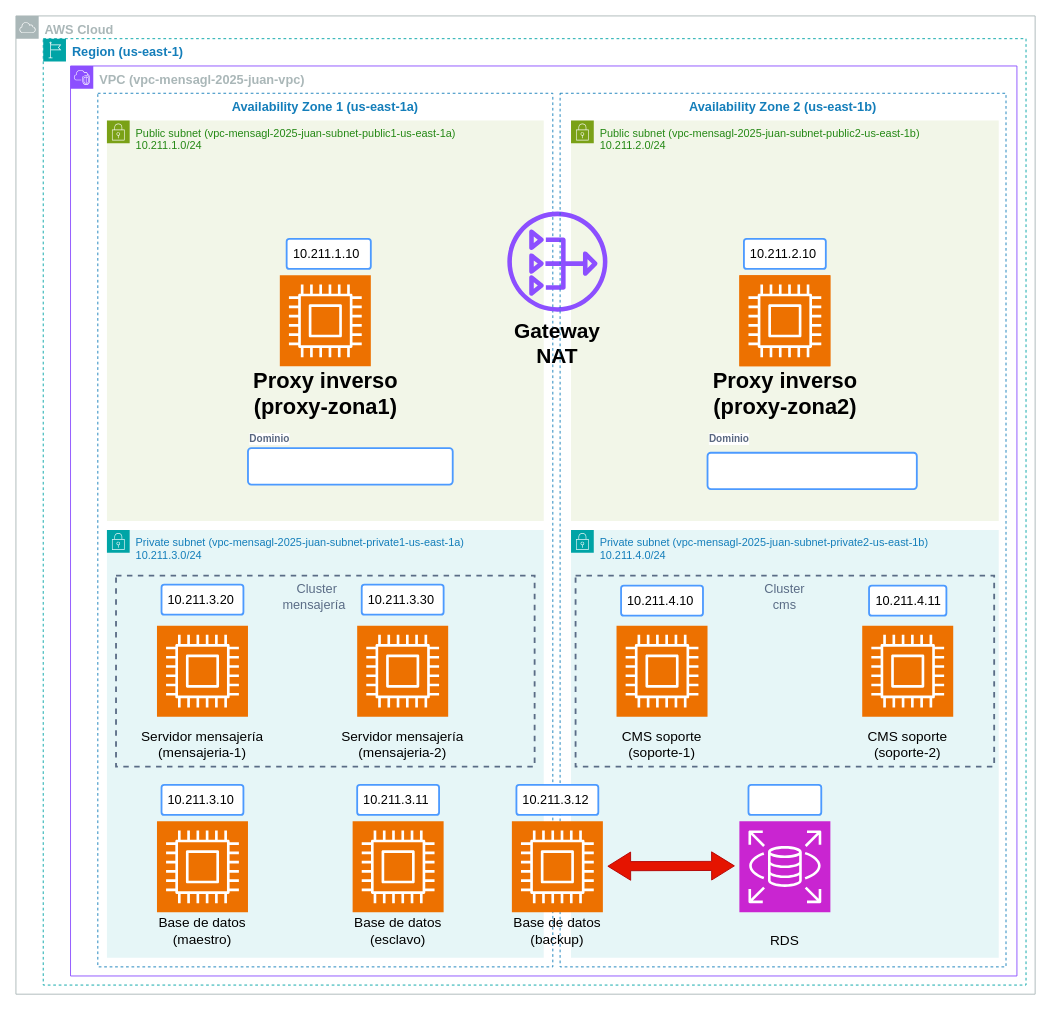
Image size: 1051x1010. Some labels were removed from this diagram. Each missing label, with the centre of its shape:
ENDPOINT: the point at 784,799
juan-proxyzona1.duckdns.org: the point at 350,466
juan-proxyzona2.duckdns.org: the point at 811,470
